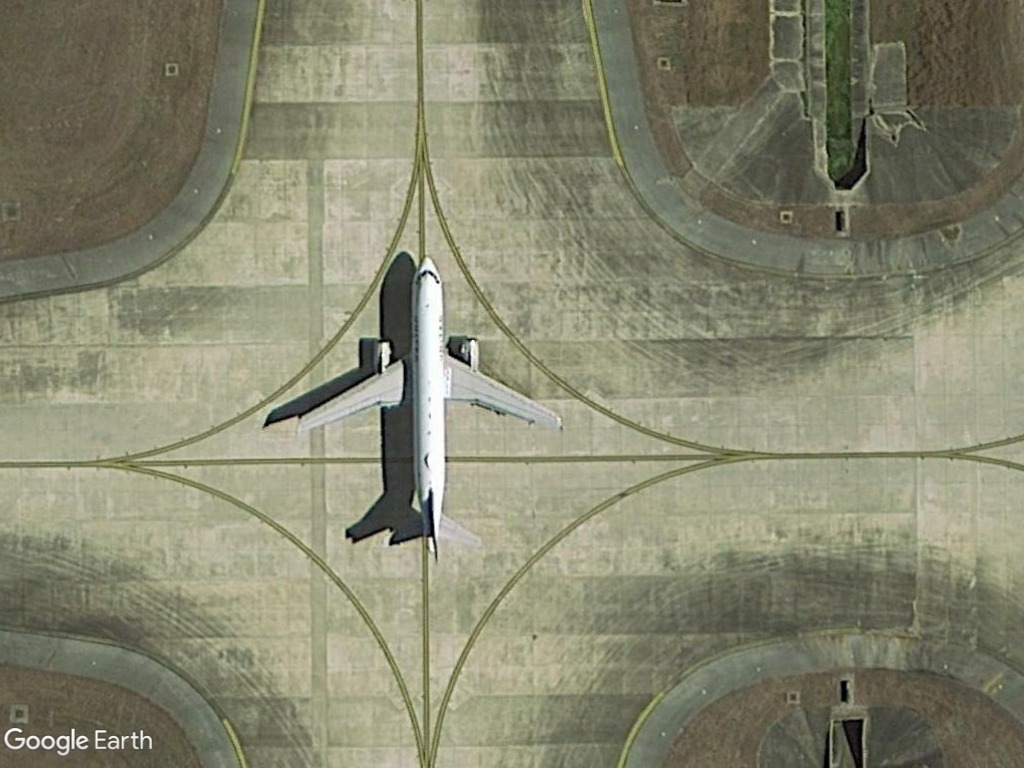airliner: (286, 251, 570, 561)
